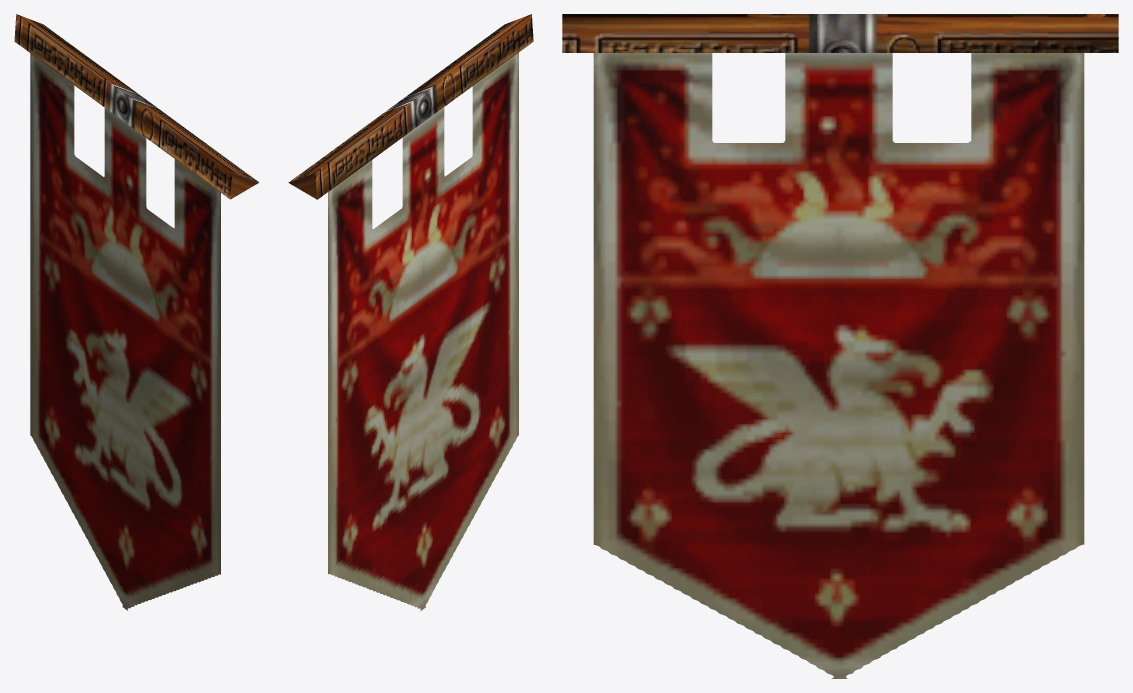
The model's file is stormwindgriffonbanner01.glb.
3 renders of one model, left to right at view 1: azimuth 30°, elevation 25°; view 2: azimuth 150°, elevation 25°; view 3: azimuth 270°, elevation 25°, orthographic. The views are drawn at different scales.
Size of the model in its own units: 0.3774 by 6.41 by 4.86.
Materials: 2 (2 with a texture image).
